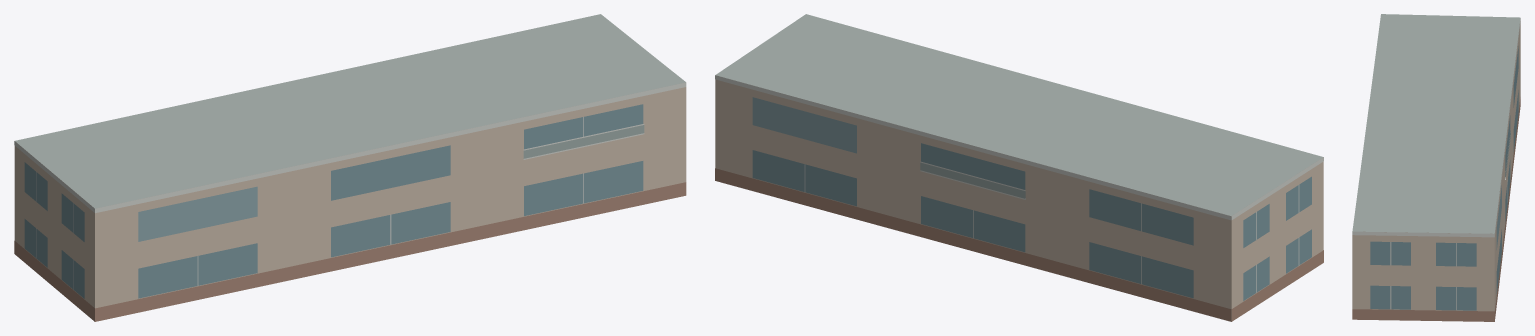
The model's file is survey-upis-32858648.glb.
3 views of the same model, side by side, from view 1: azimuth 30°, elevation 25°; view 2: azimuth 150°, elevation 25°; view 3: azimuth 270°, elevation 25° (orthographic). The views are drawn at different scales.
Visible parts, largest first — view 1: survey-upis-32858648.tmp; view 2: survey-upis-32858648.tmp; view 3: survey-upis-32858648.tmp.
Boxes of the visible parts, left/top/right/bottom form: survey-upis-32858648.tmp: left=14, top=14, right=686, bottom=321; survey-upis-32858648.tmp: left=715, top=14, right=1323, bottom=321; survey-upis-32858648.tmp: left=1352, top=14, right=1520, bottom=321.
Size of the model in its own units: 32.66 by 6.1 by 10.57.
